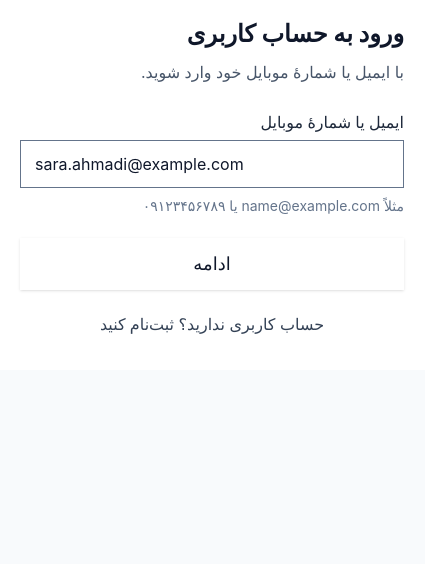
waits after a 429 › a TOTP lock clears the code and sends nothing until retry_after has passed
Later steps or results of the test are not shown.
Click the button "ادامه" at (212, 264), box left=20, top=238, right=404, bottom=290
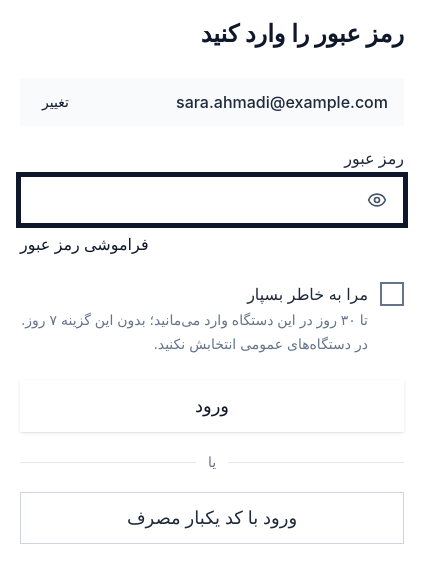
Type "Firefly@1234" into the password field labelled "رمز عبور" at (188, 200), box left=21, top=177, right=355, bottom=223
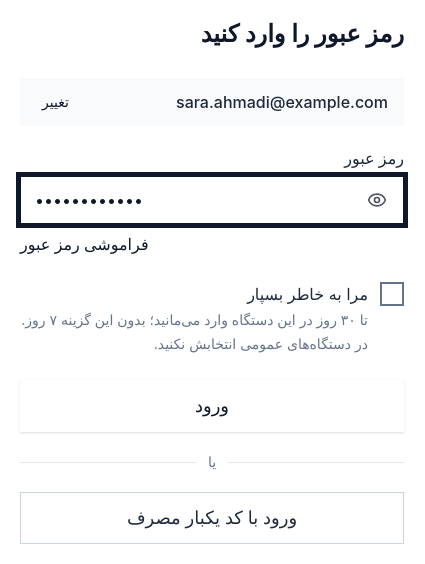
Click the button "ورود" at (212, 406), box left=20, top=380, right=404, bottom=432
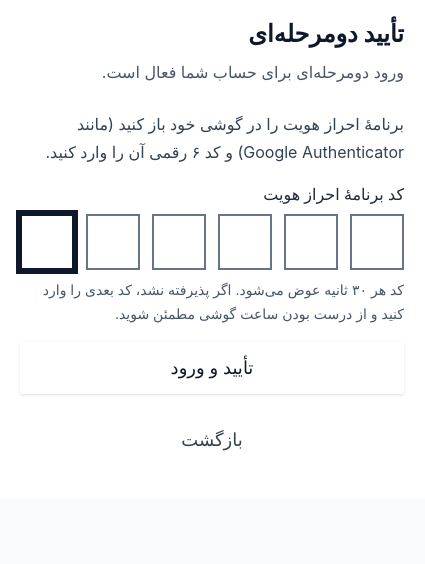
Now the heading "تأیید دومرحله‌ای" is shown, box left=248, top=19, right=404, bottom=48
Type keys "111111"
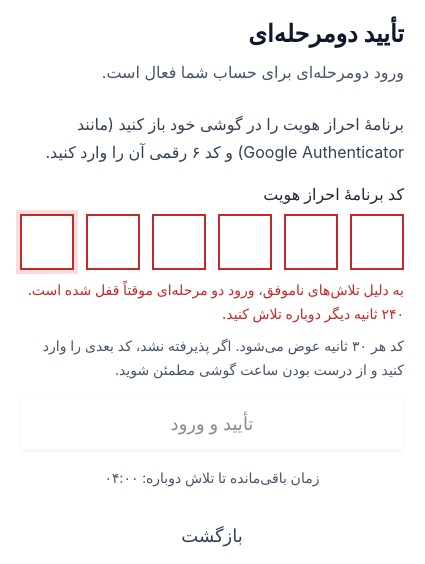
Now the field named "رقم ۶" is empty, box left=350, top=214, right=404, bottom=270
Click the field named "رقم ۱" at (47, 242), box left=20, top=214, right=74, bottom=270
Type keys "222222"
Wait 240000 ms
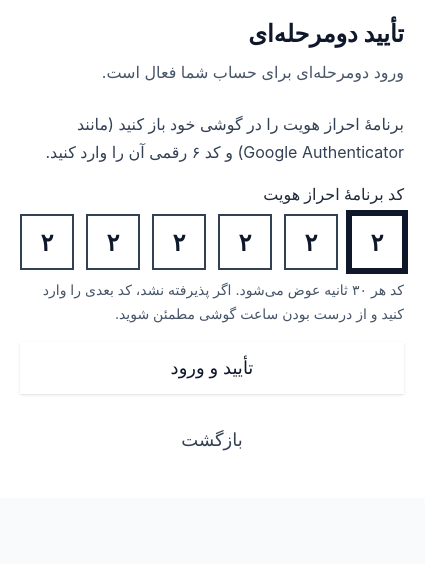
Now the button "تأیید و ورود" does not have attribute aria-disabled, box left=20, top=342, right=404, bottom=394
